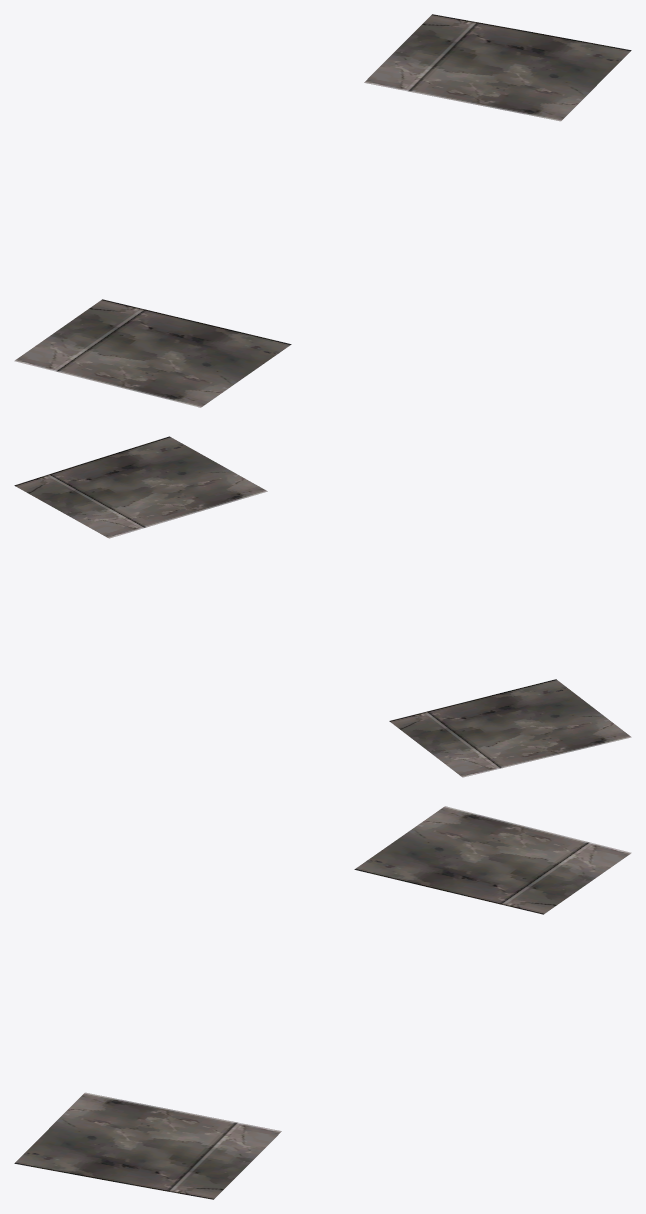
Rendered from CH09_SMAUG_PLAYSURFACE_LAIR137.fbx.
3 views of the same model, one above another, from view 1: azimuth 90°, elevation 25°; view 2: azimuth 150°, elevation 25°; view 3: azimuth 270°, elevation 25° (orthographic). The views are drawn at different scales.
Parts seen in each view (by area): view 1: CH09_SMAUG_PLAYSURFACE_LAIR137; view 2: CH09_SMAUG_PLAYSURFACE_LAIR137; view 3: CH09_SMAUG_PLAYSURFACE_LAIR137.
Boxes of the visible parts, <box> form: CH09_SMAUG_PLAYSURFACE_LAIR137: <box>14,14,631,407</box>; CH09_SMAUG_PLAYSURFACE_LAIR137: <box>14,436,631,777</box>; CH09_SMAUG_PLAYSURFACE_LAIR137: <box>14,806,631,1199</box>.
Bounding box in the file's own units: 66203 × 0.00716 × 43918.
Materials: 1 (1 with a texture image).
